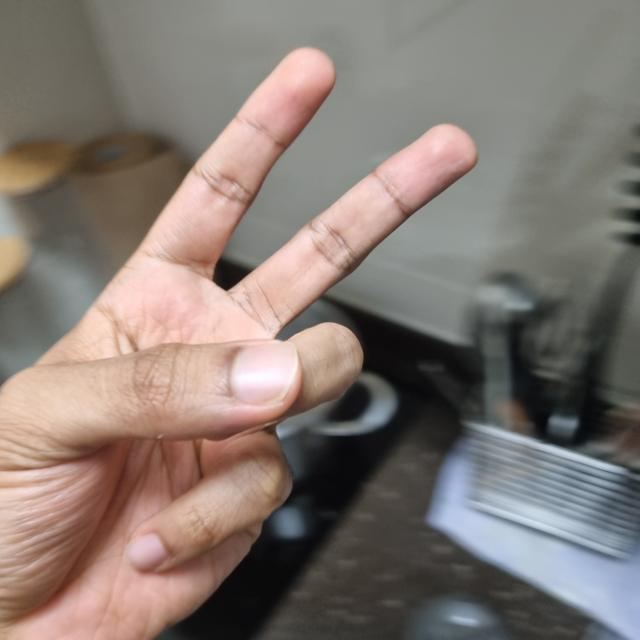Scissors: (0, 50, 474, 640)
